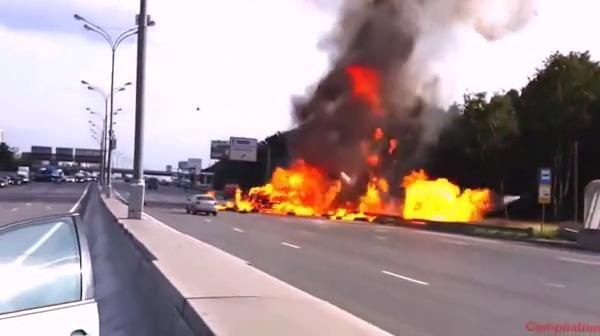fire: (227, 161, 504, 230), (343, 62, 393, 121), (386, 136, 402, 156), (373, 126, 386, 143), (206, 187, 216, 196)
